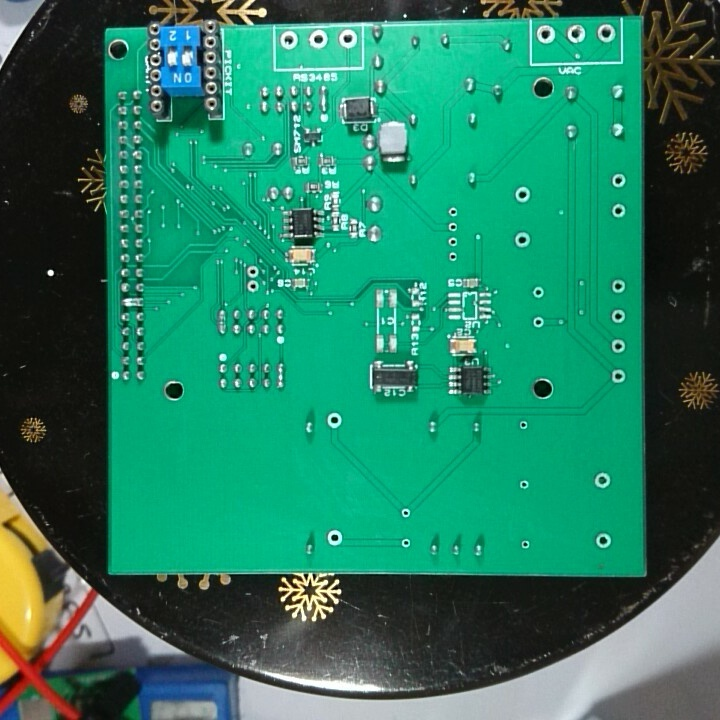F: (336, 26, 359, 52), (564, 22, 587, 47), (536, 23, 558, 48), (596, 21, 617, 47), (307, 26, 330, 49), (277, 28, 299, 52), (592, 469, 614, 492), (513, 183, 534, 206), (609, 169, 630, 192), (593, 529, 614, 551), (513, 229, 534, 251), (324, 409, 343, 432), (325, 527, 345, 547), (609, 200, 628, 220), (609, 306, 627, 326), (610, 277, 627, 297), (610, 337, 627, 355), (610, 366, 627, 383), (244, 263, 261, 279), (244, 279, 261, 295), (445, 248, 460, 266), (445, 206, 464, 220), (516, 418, 532, 434), (398, 535, 413, 552), (518, 536, 535, 551), (531, 284, 546, 301), (446, 233, 461, 249), (531, 315, 548, 329), (446, 218, 461, 233), (397, 506, 413, 520), (518, 477, 530, 490)
P: (119, 295, 147, 311), (316, 84, 332, 112), (215, 305, 227, 337), (274, 360, 285, 386)
